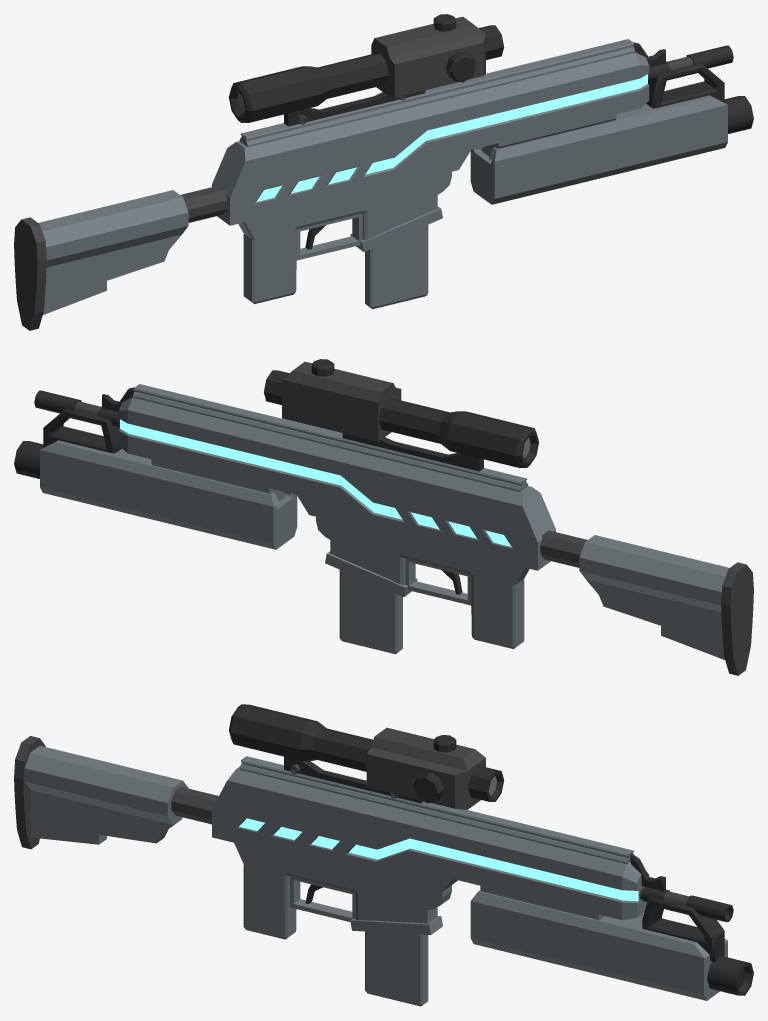
Rendered from gun02.fbx.
The picture shows the model from 3 angles, top to bottom: view 1: azimuth 30°, elevation 25°; view 2: azimuth 150°, elevation 25°; view 3: azimuth 330°, elevation 25°; orthographic projection.
Visible parts, largest first — view 1: gun; view 2: gun; view 3: gun.
Boxes of the visible parts, box(x1,y1,x2,y2) form: gun: box(14, 14, 753, 330); gun: box(14, 359, 753, 675); gun: box(14, 704, 753, 1006).
Bounding box in the file's own units: 73.45 × 26.47 × 5.53.
